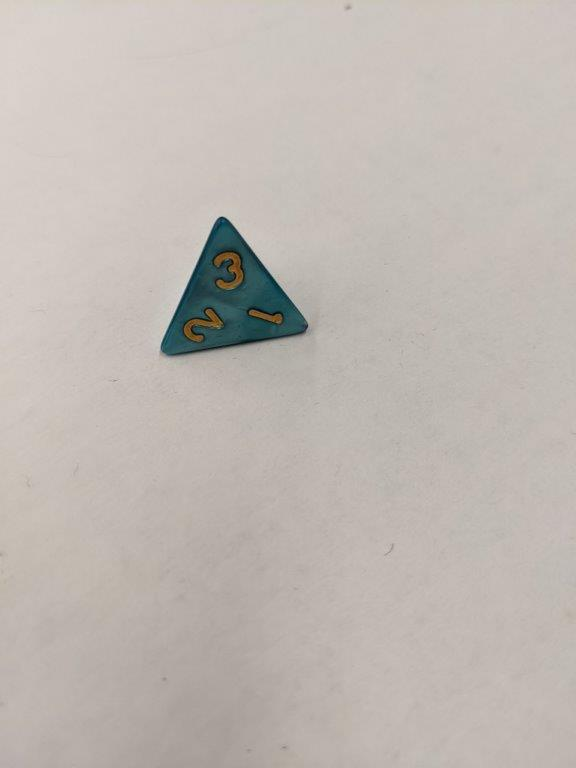d4-3: (149, 212, 312, 365)
